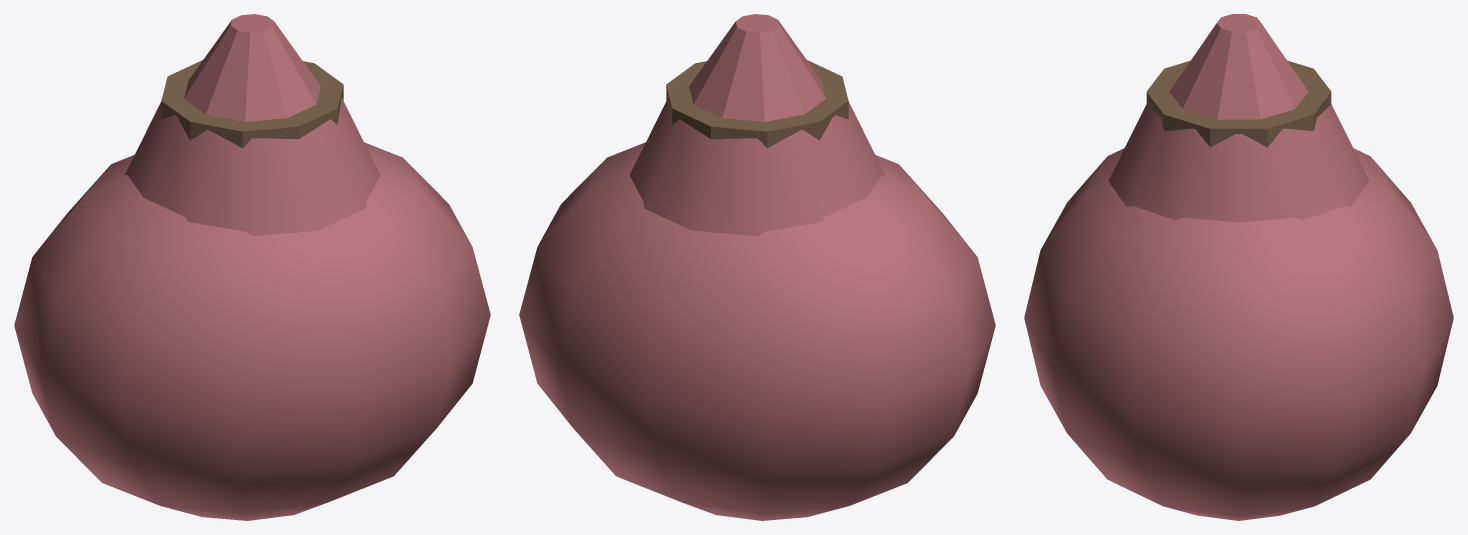
Rendered from sack.glb.
3 renders of one model, left to right at view 1: azimuth 30°, elevation 25°; view 2: azimuth 150°, elevation 25°; view 3: azimuth 270°, elevation 25°, orthographic.
Parts seen in each view (by area): view 1: sack; view 2: sack; view 3: sack.
Part boxes in pixels (<box>): sack: <box>14,14,490,520</box>; sack: <box>519,14,995,520</box>; sack: <box>1024,14,1453,520</box>.
Bounding box in the file's own units: 0.66 × 0.704 × 0.5808.
